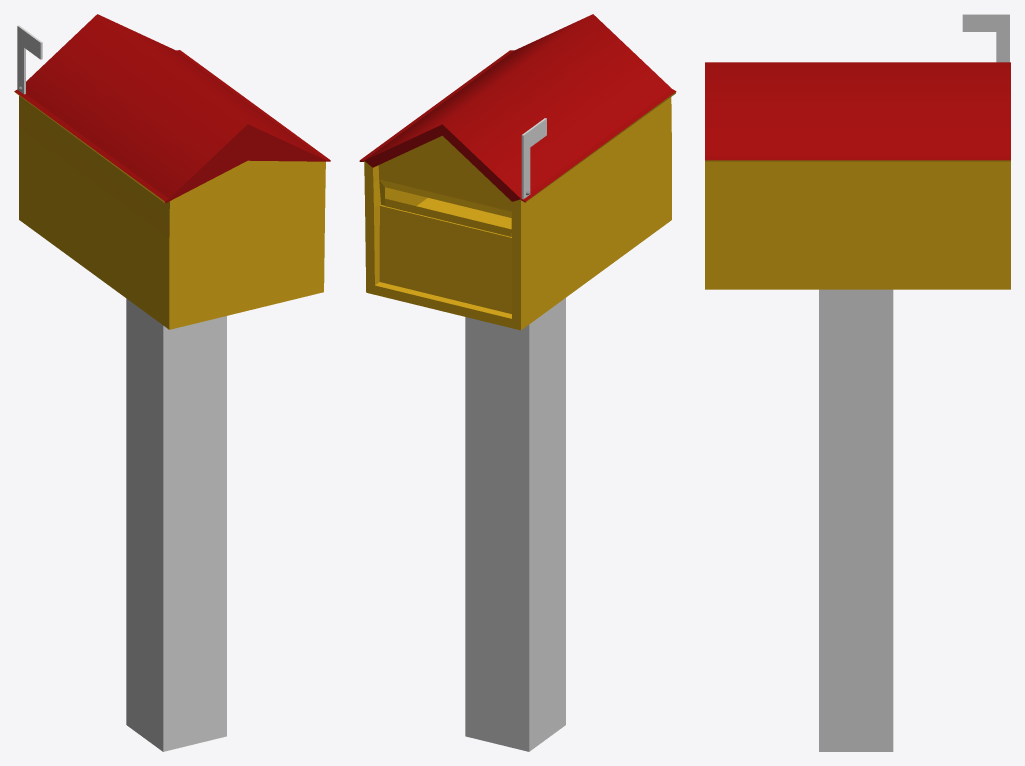
The model's file is caixaDeCorreio.FBX.
The picture shows the model from 3 angles, left to right: view 1: azimuth 30°, elevation 25°; view 2: azimuth 150°, elevation 25°; view 3: azimuth 270°, elevation 25°; orthographic projection.
Visible parts, largest first — view 1: Box001; view 2: Box001; view 3: Box001.
Boxes of the visible parts, box(x1,y1,x2,y2) form: Box001: box(14, 14, 330, 751); Box001: box(359, 14, 676, 751); Box001: box(705, 14, 1010, 751).
Bounding box in the file's own units: 19.59 × 75.54 × 30.76.
